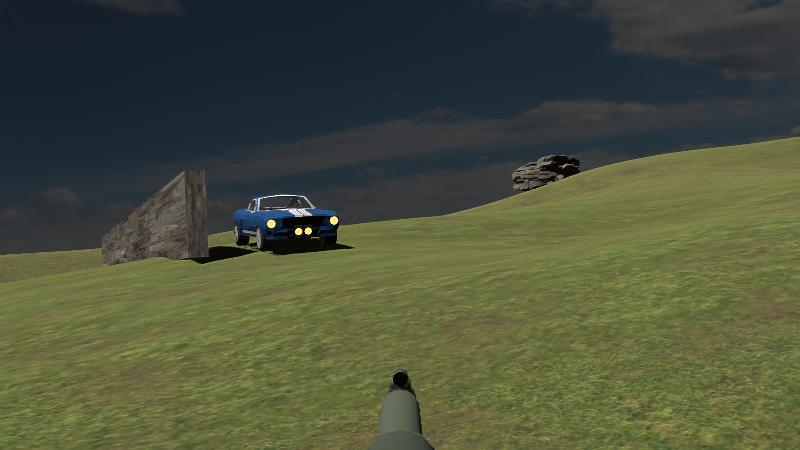car: (233, 192, 340, 253)
